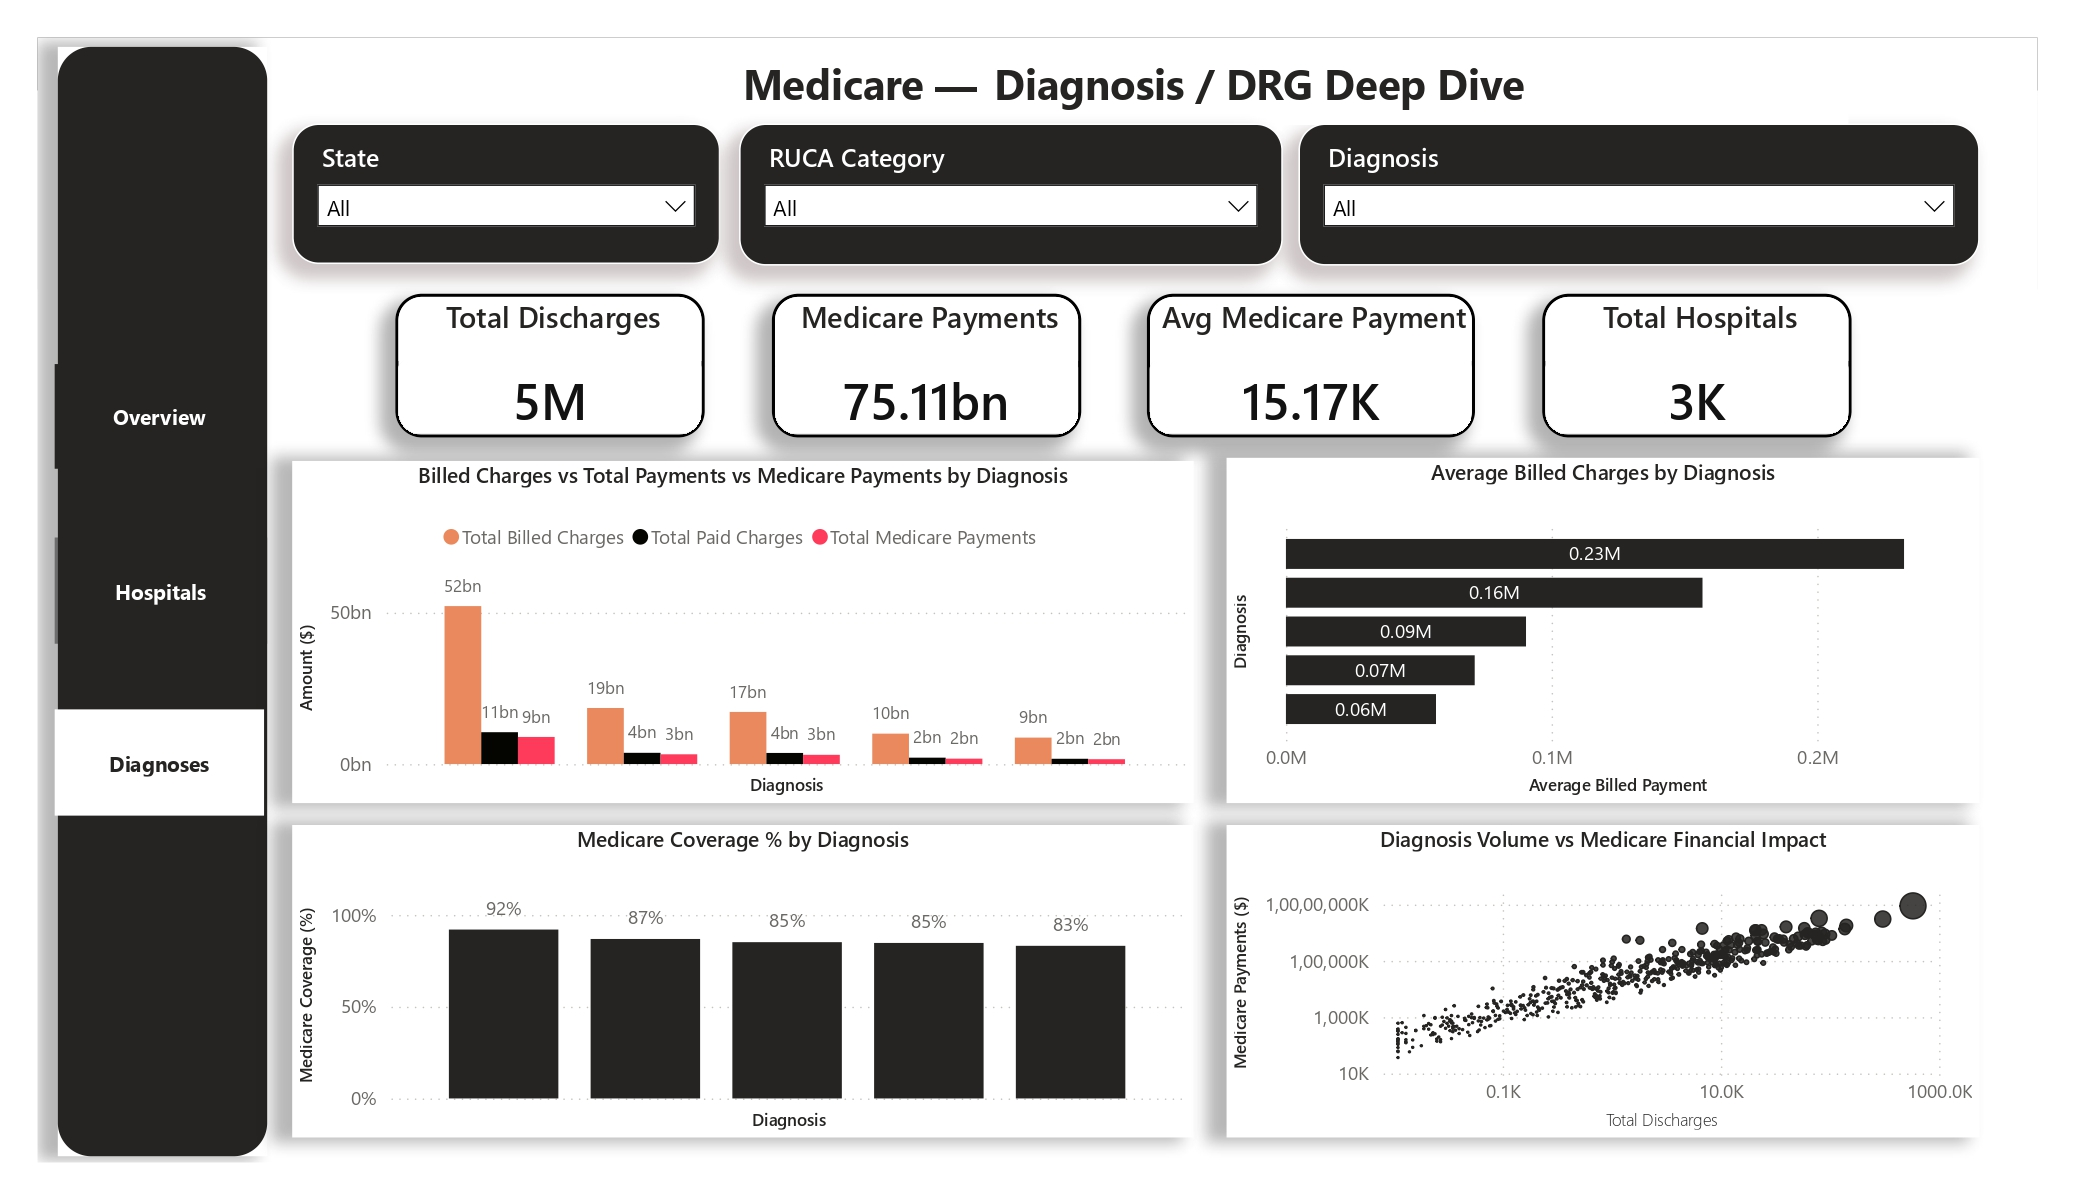

What the dashboard file says about the page in this screenshot:
{"tool":"powerbi","page":{"name":"Diagnosis / DRG Deep Dive","canvas":[1280,720],"ordinal":2},"visuals":[{"type":"shape","box":[12.9,5.7,134.3,710],"z":0},{"type":"slicer","title":"State","fields":{"Values":["public medicare_impatient.rndrng_prvdr_state_abrvtn"]},"box":[163.1,55.3,274.3,90],"z":0,"group":"g1"},{"type":"slicer","title":"RUCA Category","fields":{"Values":["public medicare_impatient.rndrng_prvdr_ruca_desc"]},"box":[448.7,55.3,348,90.5],"z":1000,"group":"g1"},{"type":"slicer","title":"State","fields":{"Values":["public medicare_impatient.drg_desc"]},"box":[806.9,55.3,436,90.5],"z":1000},{"type":"textbox","box":[244.3,5.7,914.3,50],"z":2000},{"type":"group","id":"g1","title":"Group 2","box":[163.1,55.3,633.6,90.5],"z":3000},{"type":"cardVisual","title":"Total Discharges","fields":{"Data":["public medicare_impatient.Total Discharges"]},"box":[228.6,164.3,198.6,91.4],"z":4000},{"type":"cardVisual","title":"Total Hospitals ","fields":{"Data":["public medicare_impatient.Total Hospitals"]},"box":[962.9,164.3,198.6,91.4],"z":5000},{"type":"cardVisual","title":"Avg Medicare Payment","fields":{"Data":["public medicare_impatient.Average Medicare Payment"]},"box":[710.5,164.3,210,91.4],"z":6000},{"type":"cardVisual","title":"Medicare Payments","fields":{"Data":["public medicare_impatient.Total Medicare Payments"]},"box":[469.5,164.3,198.6,91.4],"z":7000},{"type":"clusteredBarChart","title":"Average Billed Charges by Diagnosis","fields":{"Category":["public medicare_impatient.drg_desc"],"Y":["public medicare_impatient.Average Billed Payment"]},"box":[761.4,268.6,481.4,221.4],"z":8000},{"type":"clusteredColumnChart","title":"Billed Charges vs Total Payments vs Medicare Payments by Diagnosis","fields":{"Category":["public medicare_impatient.drg_desc"],"Y":["public medicare_impatient.Total Billed Charges","public medicare_impatient.Total Paid Charges","public medicare_impatient.Total Medicare Payments"]},"box":[162.9,271.4,577.1,218.6],"z":9000},{"type":"columnChart","title":"Medicare Coverage % by Diagnosis","fields":{"Category":["public medicare_impatient.drg_desc"],"Y":["public medicare_impatient.Medicare Coverage %"]},"box":[162.9,504.3,577.1,200],"z":10000},{"type":"scatterChart","title":"Diagnosis Volume vs Medicare Financial Impact","fields":{"X":["public medicare_impatient.Total Discharges"],"Y":["public medicare_impatient.Total Medicare Payments"],"Size":["public medicare_impatient.Total Paid Charges"],"Category":["public medicare_impatient.drg_desc"]},"box":[761.4,504.3,481.4,200],"z":11000},{"type":"group","id":"g2","title":"Group 1","box":[11.4,208.6,135.7,288.6],"z":12000},{"type":"actionButton","box":[11.4,430,134.3,67.1],"z":13000,"group":"g2"},{"type":"actionButton","box":[11.4,208.6,134.3,67.1],"z":14000,"group":"g2"},{"type":"actionButton","box":[11.4,320,135.7,67.1],"z":15000,"group":"g2"}]}

Visuals, with their boxes on the page's 1280x720 design canvas (x1, y1, x2, y2). These are canvas units, not pixel positions in the 2075x1200 screenshot, which may show the page scaled, cropped or inside an application window:
shape: [x1=13, y1=6, x2=147, y2=716]
"State" slicer: [x1=163, y1=55, x2=437, y2=145]
"RUCA Category" slicer: [x1=449, y1=55, x2=797, y2=146]
"State" slicer: [x1=807, y1=55, x2=1243, y2=146]
textbox: [x1=244, y1=6, x2=1159, y2=56]
"Group 2" group: [x1=163, y1=55, x2=797, y2=146]
"Total Discharges" cardVisual: [x1=229, y1=164, x2=427, y2=256]
"Total Hospitals " cardVisual: [x1=963, y1=164, x2=1162, y2=256]
"Avg Medicare Payment" cardVisual: [x1=710, y1=164, x2=920, y2=256]
"Medicare Payments" cardVisual: [x1=470, y1=164, x2=668, y2=256]
"Average Billed Charges by Diagnosis" clusteredBarChart: [x1=761, y1=269, x2=1243, y2=490]
"Billed Charges vs Total Payments vs Medicare Payments by Diagnosis" clusteredColumnChart: [x1=163, y1=271, x2=740, y2=490]
"Medicare Coverage % by Diagnosis" columnChart: [x1=163, y1=504, x2=740, y2=704]
"Diagnosis Volume vs Medicare Financial Impact" scatterChart: [x1=761, y1=504, x2=1243, y2=704]
"Group 1" group: [x1=11, y1=209, x2=147, y2=497]
actionButton: [x1=11, y1=430, x2=146, y2=497]
actionButton: [x1=11, y1=209, x2=146, y2=276]
actionButton: [x1=11, y1=320, x2=147, y2=387]
